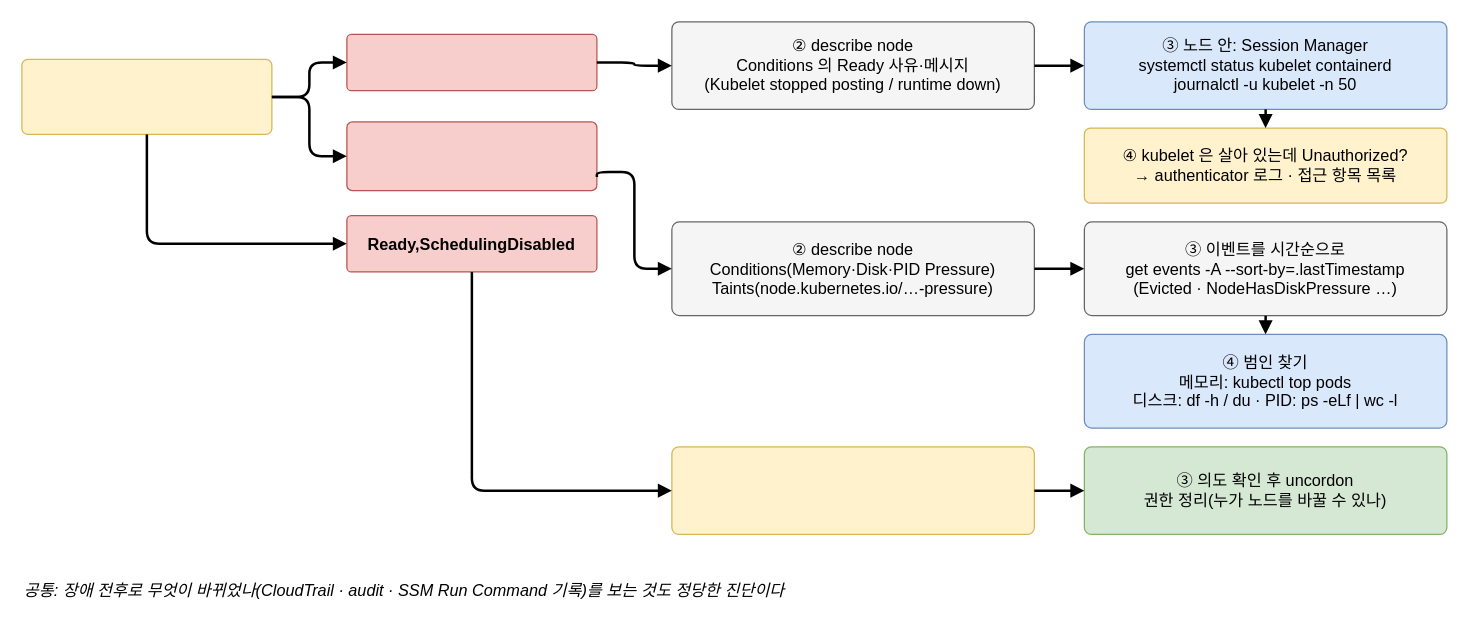
Some shapes in this 1469 by 631 pixel diagram are drawn without their labels. The shapes that lost their labels are listed below. From the top down, each one's box as (x1, y1, x2, y2) in pixels, then its label:
(346, 33, 597, 91): NotReady
(21, 58, 272, 134): kubectl get nodes (STATUS 열)
(346, 121, 597, 191): Ready 인데 파드가 쫓겨남 (Evicted · Pending)
(671, 446, 1034, 534): ② 누가 했나 — audit 로그 verb=patch · resource=nodes · user.username
